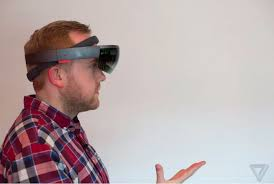hololens: (22, 41, 120, 76)
